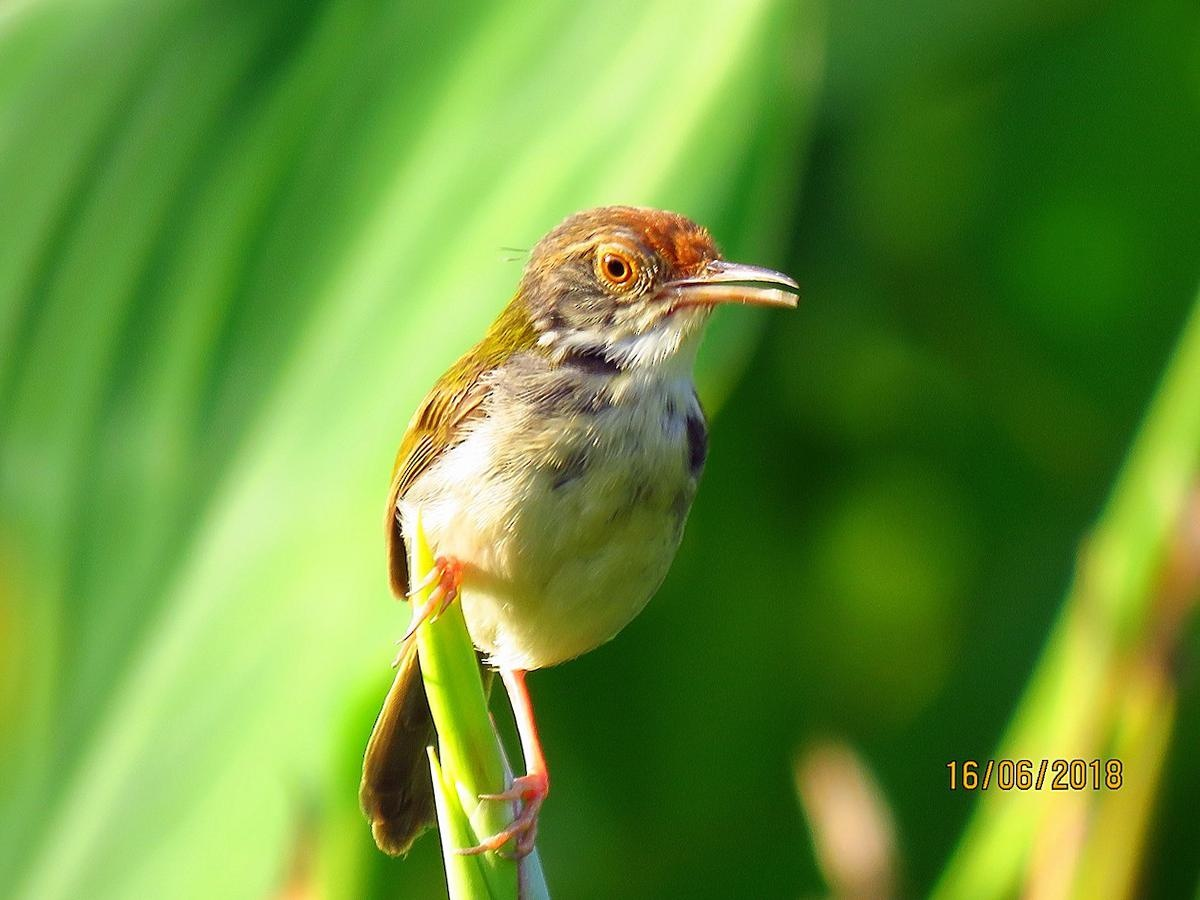tailorbird: (337, 176, 824, 865)
